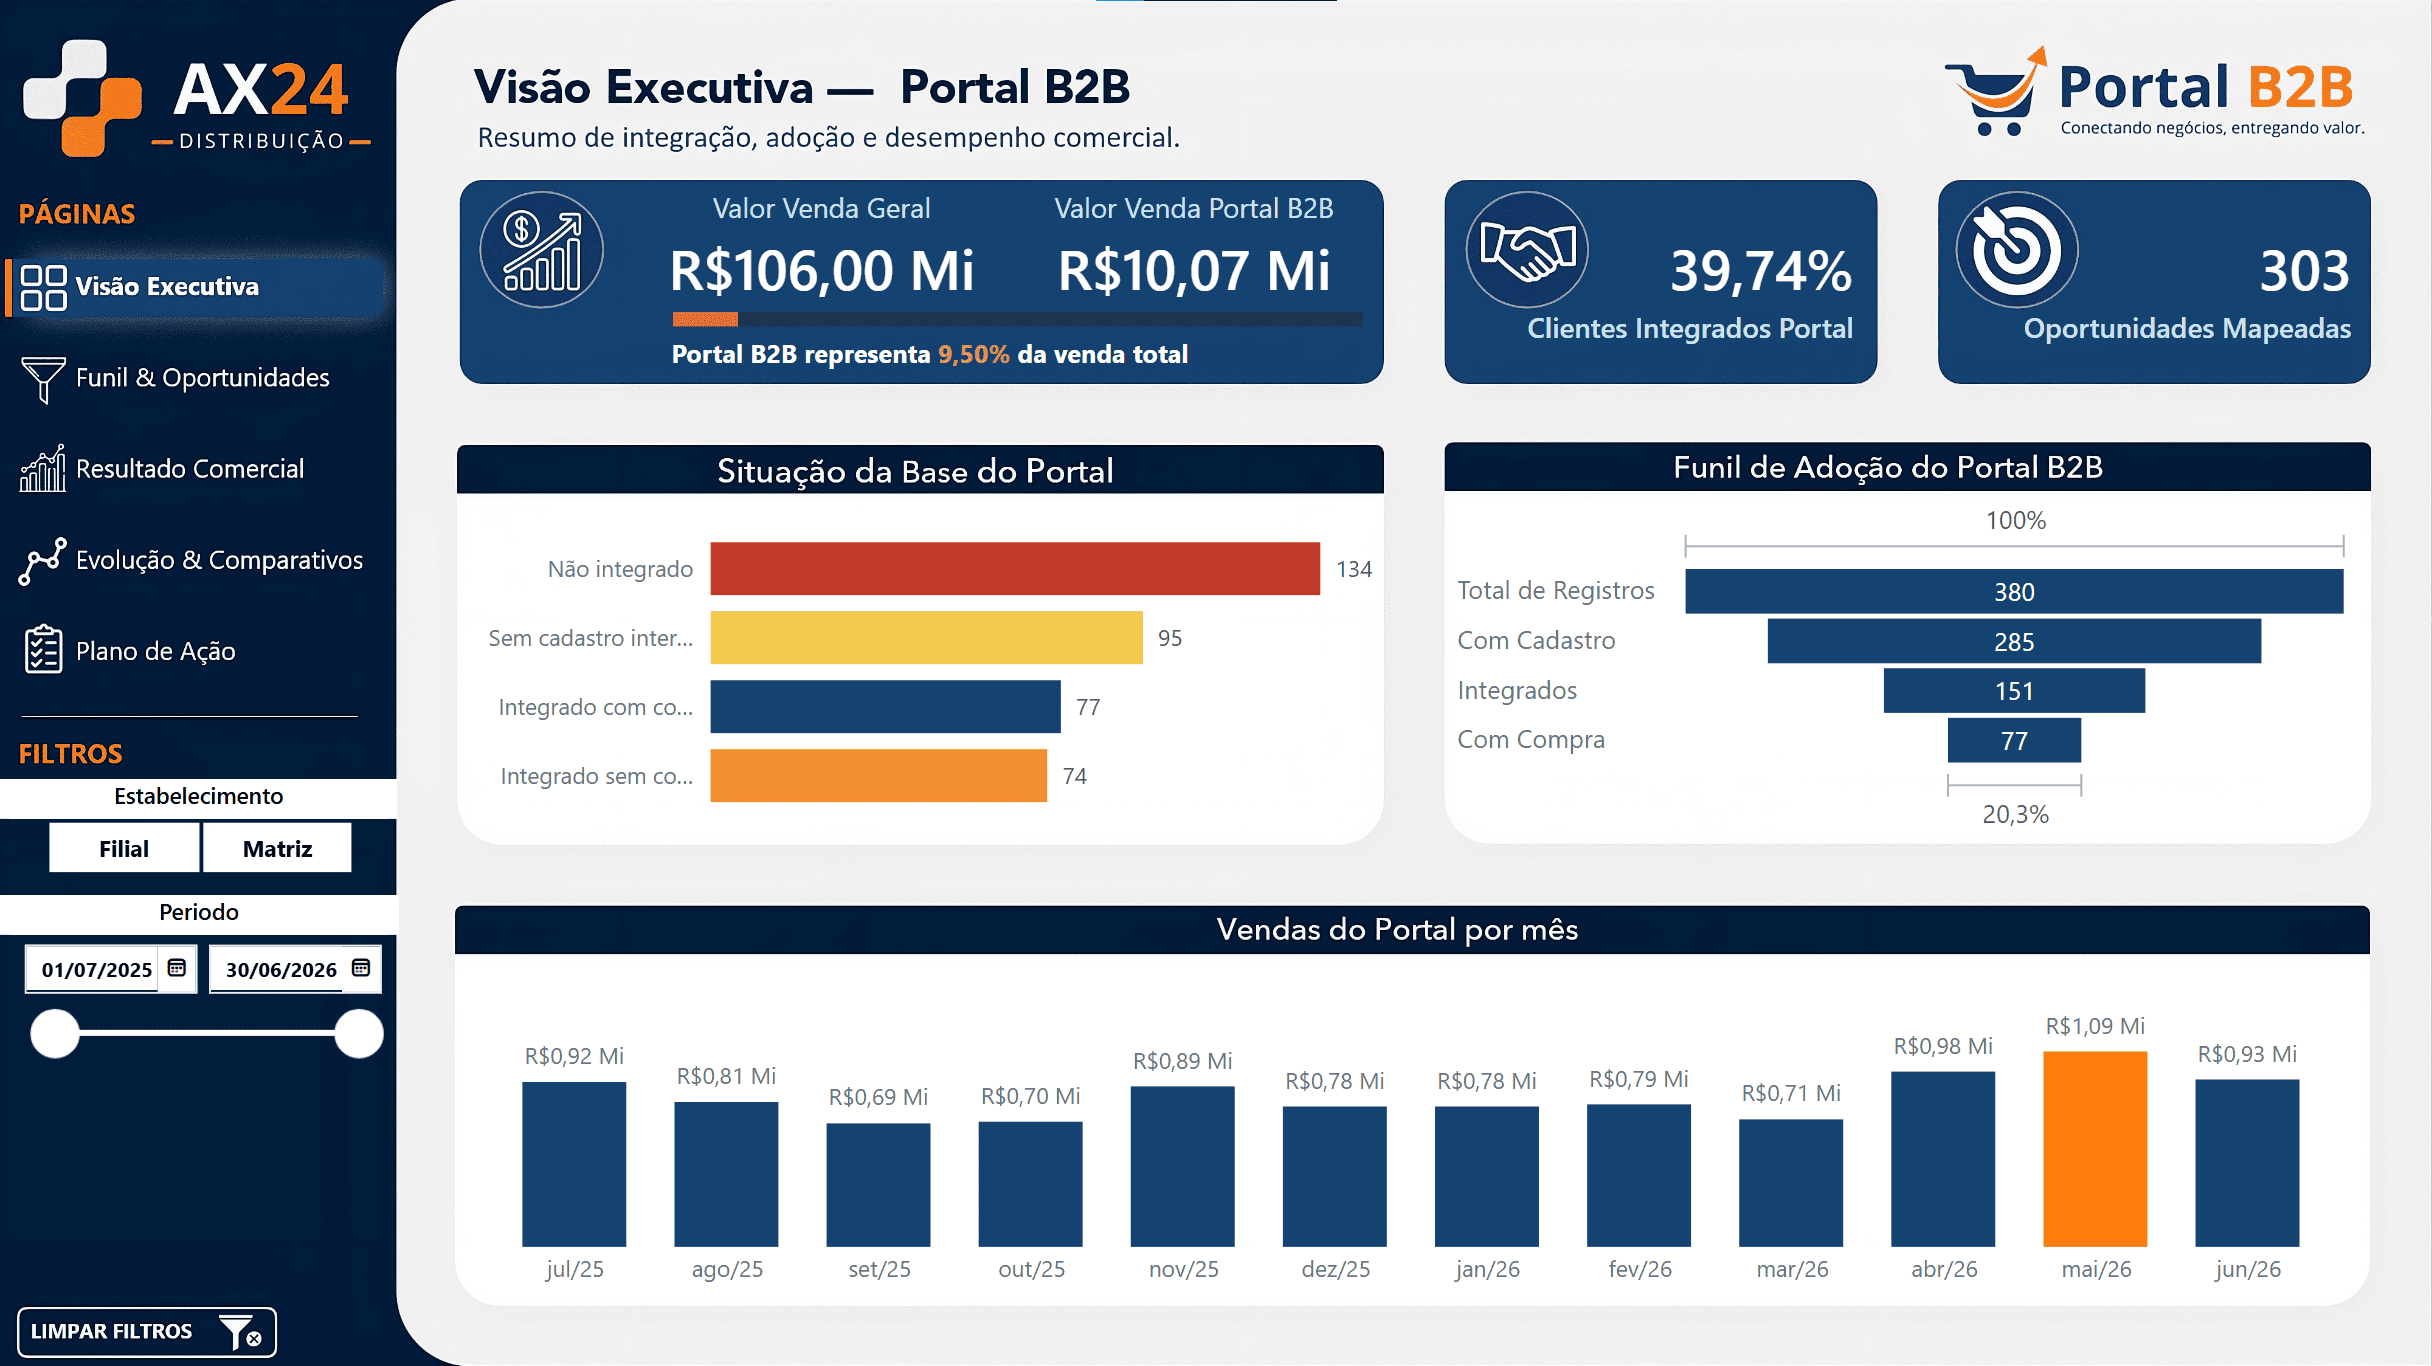

This screenshot's page, from the dashboard's own definition file:
{"tool":"powerbi","page":{"name":"Visão Executiva","canvas":[1280,720],"ordinal":1},"visuals":[{"type":"cardVisual","fields":{"Data":["Medidas.% Clientes Integrados Portal"]},"box":[761.5,96.9,243.8,109.2],"z":0},{"type":"cardVisual","fields":{"Data":["Medidas.Qtd Oportunidades"]},"box":[1023.8,96.9,243.8,109.2],"z":1000},{"type":"funnel","fields":{"Y":["Medidas.Qtd Registros Portal","Medidas.Qtd Clientes com Cadastro Interno","Medidas.Qtd Clientes Integrados Portal","Medidas.Qtd Integrados com Compra Portal"]},"box":[761.8,271.2,482.1,171.4],"z":2000},{"type":"barChart","fields":{"Category":["f_OportunidadesPortal.Status PORTALB2B"],"Y":["Medidas.Qtd Registros Portal"]},"box":[237.7,262.7,489.9,179.9],"z":3000},{"type":"clusteredColumnChart","fields":{"Category":["d_Calendario.Mes Ano"],"Y":["Medidas.Valor Venda Portal B2B"]},"box":[237.6,511.7,1006.6,175],"z":4000},{"type":"cardVisual","fields":{"Data":["Medidas.Valor Venda Geral","Medidas.Valor Venda Portal B2B"]},"box":[321.8,74.7,419.4,108.8],"z":5000},{"type":"barChart","fields":{"Y":["Medidas.% Venda Portal B2B","Medidas.% Venda Fora Portal B2B"]},"box":[348.8,141.2,373.5,46.5],"z":6000},{"type":"textbox","box":[348.2,172.4,292.9,36.5],"z":7000},{"type":"slicer","title":"Estabelecimento","fields":{"Values":["d_Estabelecimento.Estabelecimento"]},"box":[0,410,209.3,56.4],"z":8000},{"type":"slicer","title":"Periodo","fields":{"Values":["d_Calendario.Date"]},"box":[0,471.4,209.3,90],"z":9000},{"type":"actionButton","box":[0,679.3,176.4,34.3],"z":10000}]}

Visuals, with their boxes on the page's 1280x720 design canvas (x1, y1, x2, y2). These are canvas units, not pixel positions in the 2432x1366 screenshot, which may show the page scaled, cropped or inside an application window:
cardVisual - Medidas.% Clientes Integrados Portal: box(762, 97, 1005, 206)
cardVisual - Medidas.Qtd Oportunidades: box(1024, 97, 1268, 206)
funnel - Medidas.Qtd Registros Portal x Medidas.Qtd Clientes com Cadastro Interno: box(762, 271, 1244, 443)
barChart - f_OportunidadesPortal.Status PORTALB2B x Medidas.Qtd Registros Portal: box(238, 263, 728, 443)
clusteredColumnChart - d_Calendario.Mes Ano x Medidas.Valor Venda Portal B2B: box(238, 512, 1244, 687)
cardVisual - Medidas.Valor Venda Geral x Medidas.Valor Venda Portal B2B: box(322, 75, 741, 184)
barChart - Medidas.% Venda Portal B2B x Medidas.% Venda Fora Portal B2B: box(349, 141, 722, 188)
textbox: box(348, 172, 641, 209)
"Estabelecimento" slicer: box(0, 410, 209, 466)
"Periodo" slicer: box(0, 471, 209, 561)
actionButton: box(0, 679, 176, 714)
